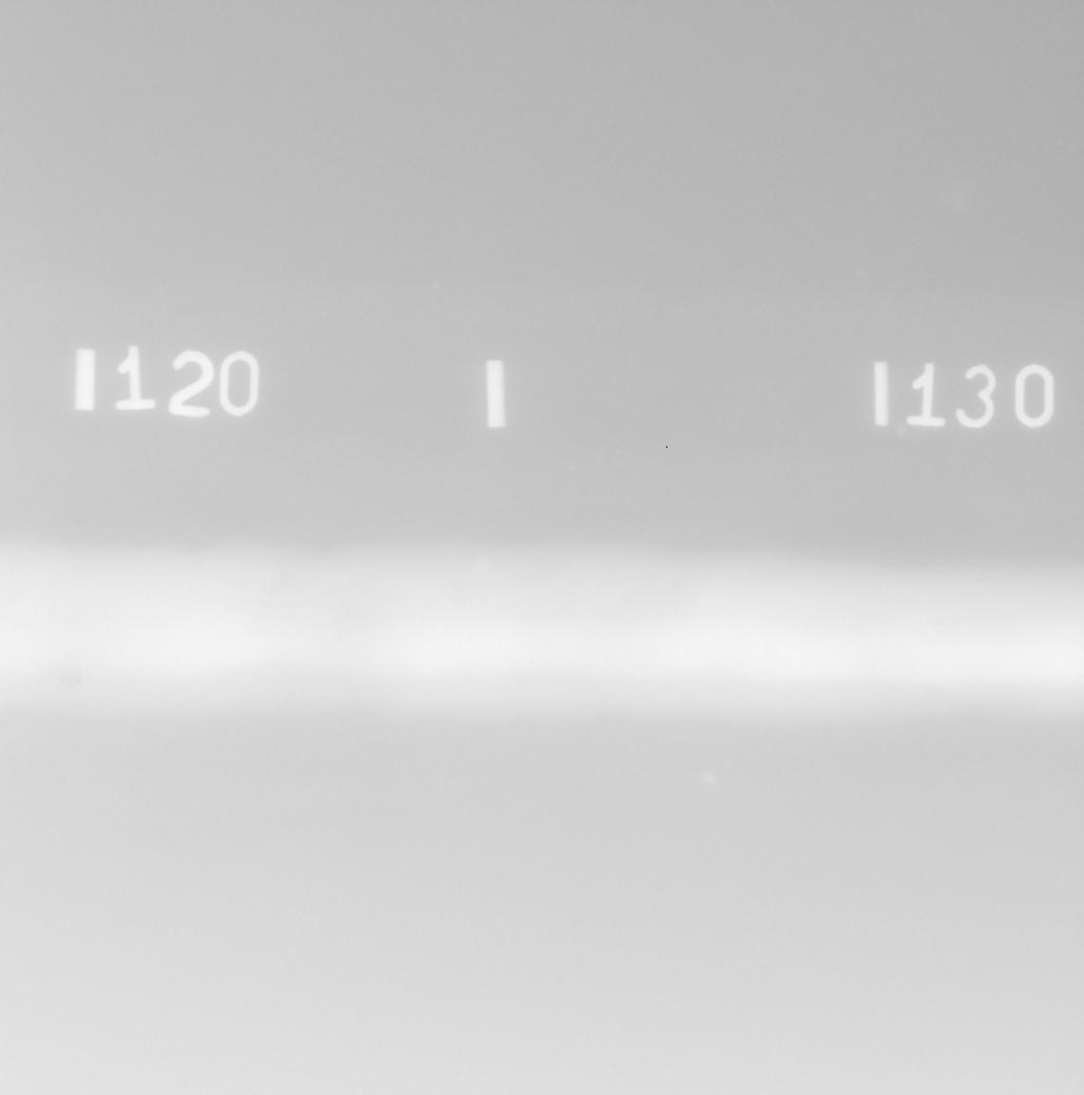Pore/Porosity: (58, 667, 85, 687), (526, 656, 536, 665), (262, 630, 265, 633)
